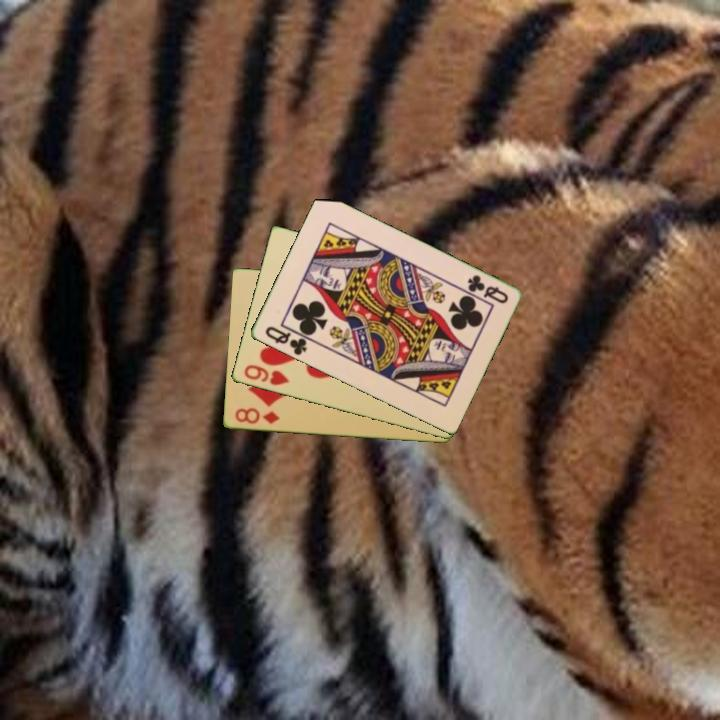8d: (231, 404, 282, 427)
9h: (240, 361, 292, 388)
Qc: (261, 322, 314, 359), (464, 271, 511, 307)
